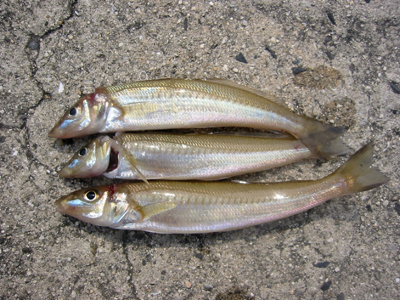kiss: (57, 172, 383, 234), (48, 76, 341, 143), (53, 132, 351, 179)
